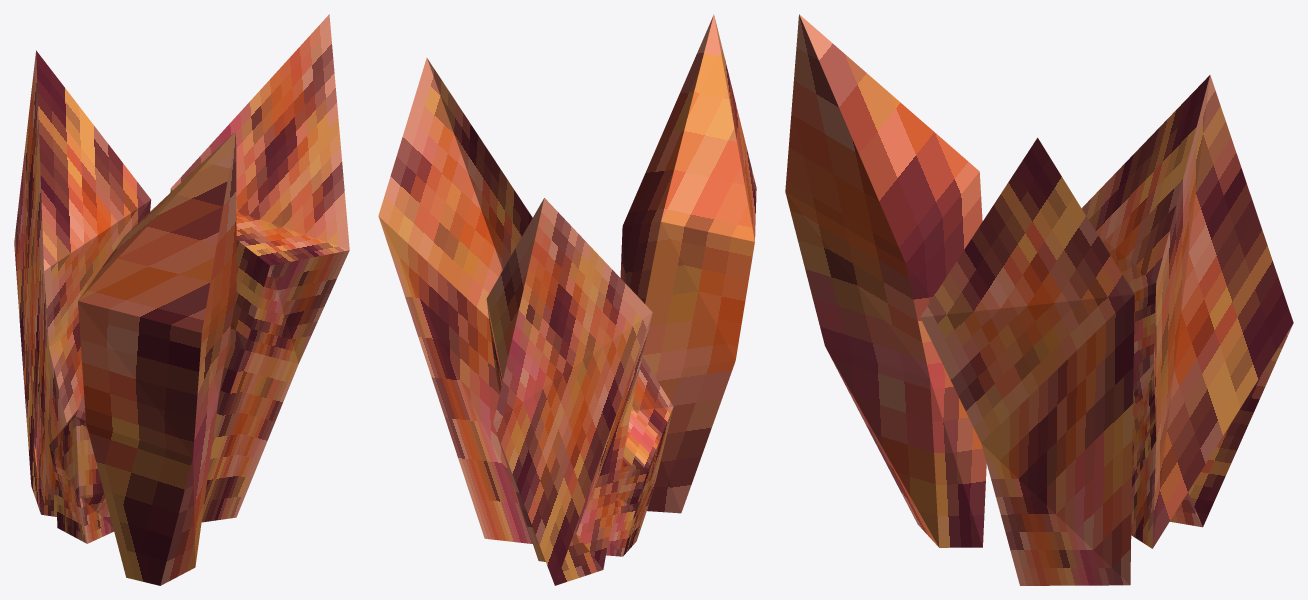
The model's file is magma_crystal.obj.
The picture shows the model from 3 angles, left to right: view 1: azimuth 30°, elevation 25°; view 2: azimuth 150°, elevation 25°; view 3: azimuth 270°, elevation 25°; orthographic projection. The views are drawn at different scales.
Bounding box in the file's own units: 0.6588 × 0.992 × 0.8671.
